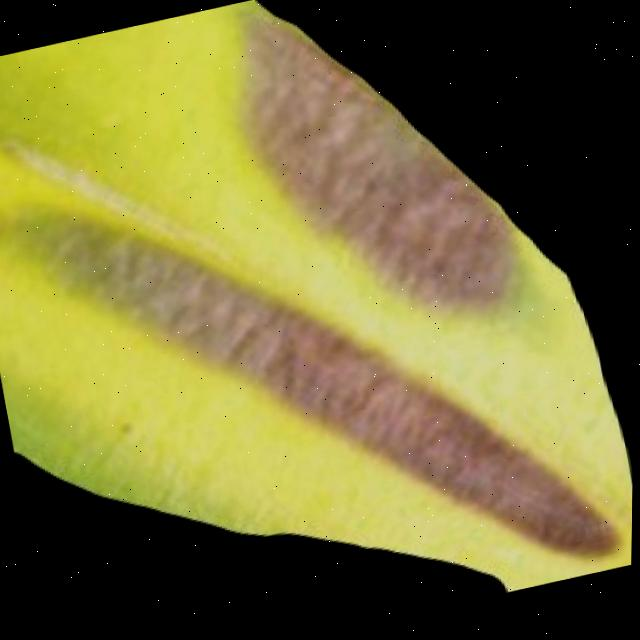mite: (14, 348, 521, 639), (249, 0, 619, 250), (39, 484, 517, 639), (605, 114, 613, 148)
